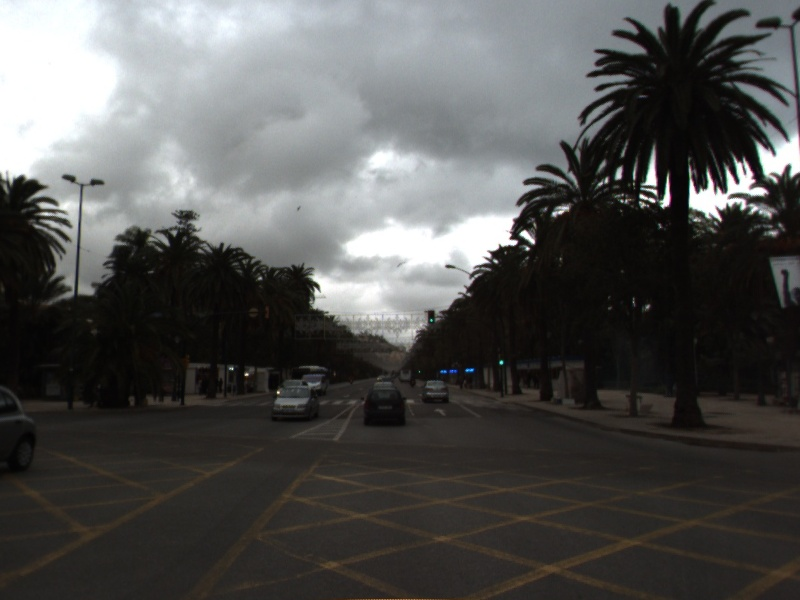STRAIGHT: (431, 406, 450, 418)
